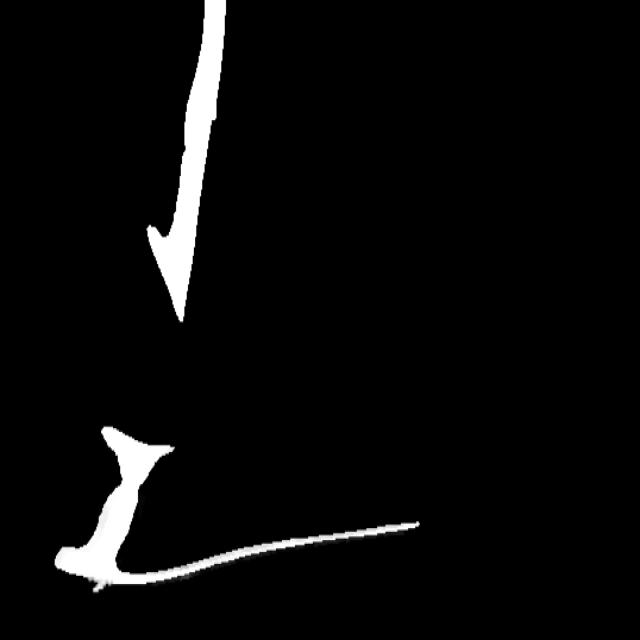sup_pli: (90, 572, 111, 599)
